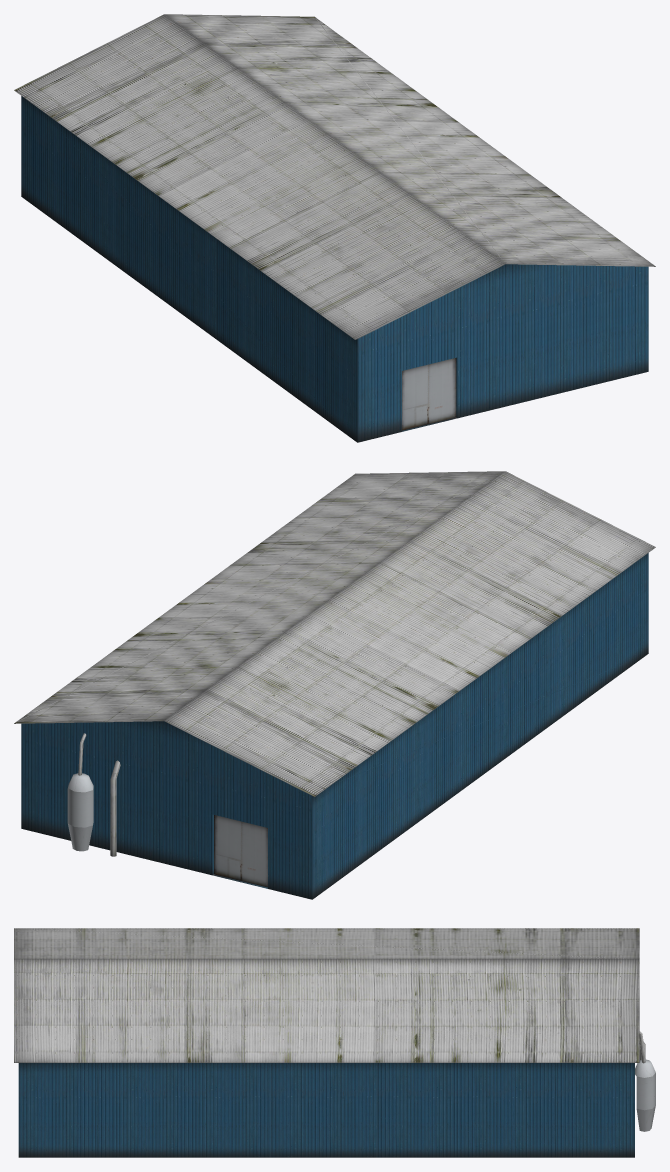
The model's file is r402_borovoe_angar2.FBX.
3 renders of one model, top to bottom at view 1: azimuth 30°, elevation 25°; view 2: azimuth 150°, elevation 25°; view 3: azimuth 270°, elevation 25°, orthographic. The views are drawn at different scales.
Visible parts, largest first — view 1: r402_borovoe_angar2; view 2: r402_borovoe_angar2; view 3: r402_borovoe_angar2.
Boxes of the visible parts, x1,y1,x2,y2 form: r402_borovoe_angar2: (14, 14, 655, 442); r402_borovoe_angar2: (14, 471, 655, 899); r402_borovoe_angar2: (14, 928, 655, 1157).
Size of the model in its own units: 2065 by 4165 by 952.
